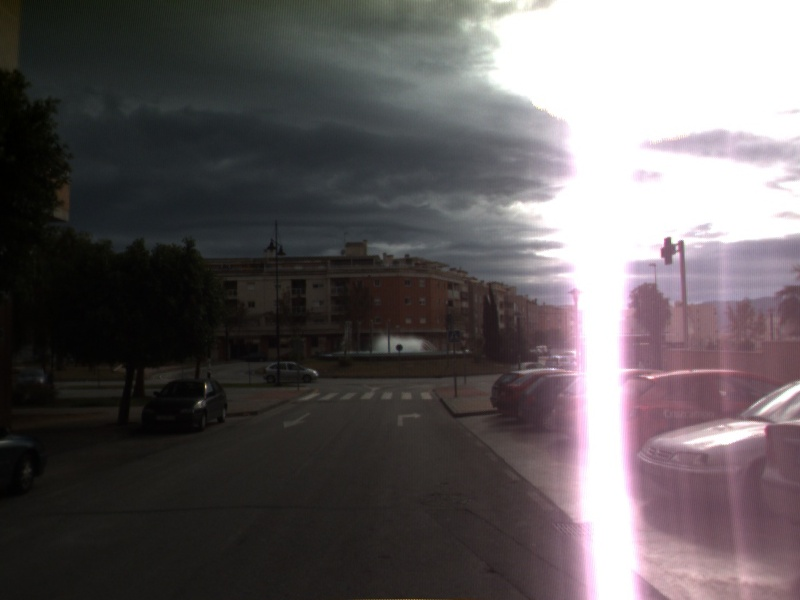RIGHT: (395, 410, 424, 428)
